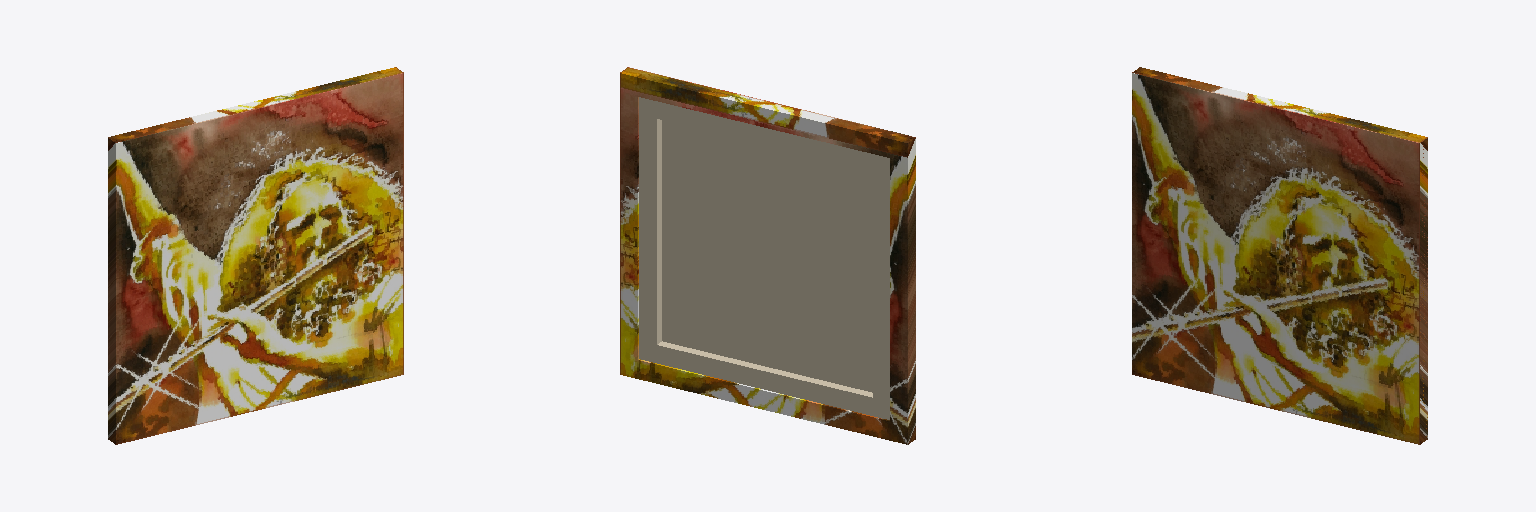
The picture shows the model from 3 angles: view 1: azimuth 30°, elevation 25°; view 2: azimuth 150°, elevation 25°; view 3: azimuth 330°, elevation 25°; orthographic projection.
Visible parts, largest first — view 1: Boolean_9_3_1_1; view 2: back_2_2_2, Boolean_9_3_1_1; view 3: Boolean_9_3_1_1.
Part boxes in pixels (left/top/right/bottom): Boolean_9_3_1_1: left=108, top=67, right=403, bottom=444; back_2_2_2: left=639, top=97, right=889, bottom=419; Boolean_9_3_1_1: left=620, top=67, right=915, bottom=444; Boolean_9_3_1_1: left=1132, top=67, right=1427, bottom=444.
Bounding box in the file's own units: 40 × 40 × 2.
Materials: 2 (1 with a texture image).